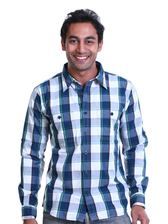clothoes: (15, 63, 153, 221)
